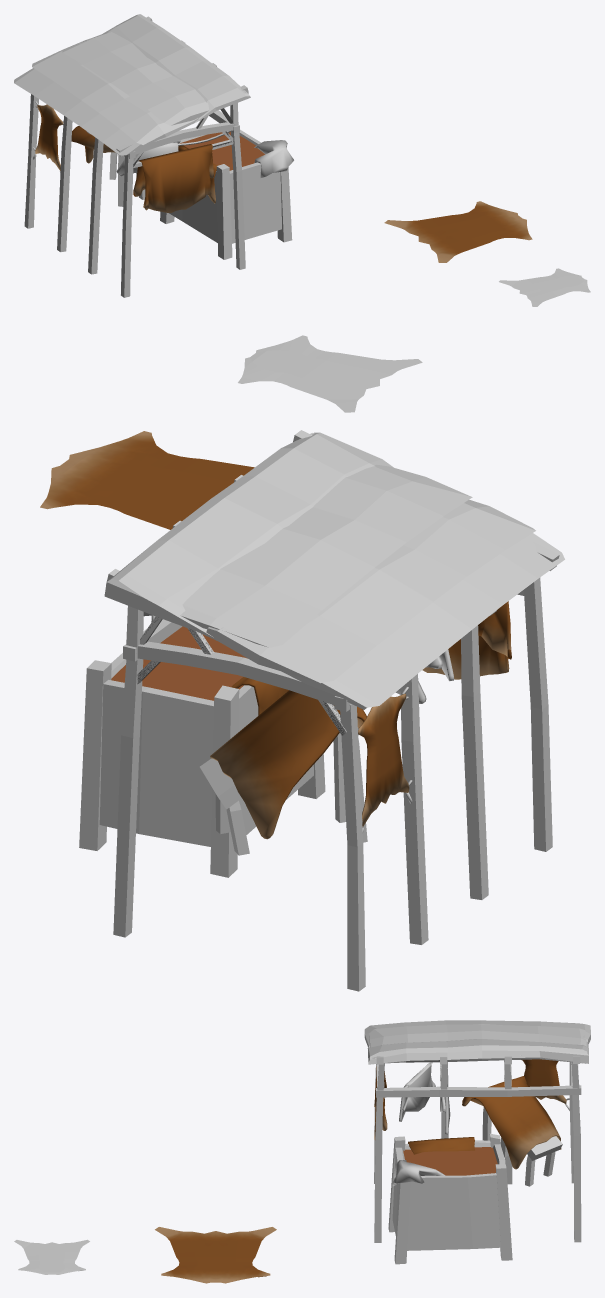
File: Tannery1.fbx
The picture shows the model from 3 angles, top to bottom: view 1: azimuth 30°, elevation 25°; view 2: azimuth 150°, elevation 25°; view 3: azimuth 270°, elevation 25°; orthographic projection. The views are drawn at different scales.
Parts seen in each view (by area): view 1: Tub.001, Step_3, Thatch.002, Thatch.001, Skin.004, Skin.003, Thatch.003, Thatch.004, Skin.005, Post.021, Step_0, Post.036 (+8 smaller); view 2: Tub.001, Thatch.002, Thatch.001, Thatch.003, Step_3, Block.001, Thatch.004, Skin.004, Skin.005, Step_0, Step_1, Post.021 (+7 smaller); view 3: Tub.001, Block.001, Skin.004, Thatch.001, Thatch.002, Post.009, Skin.005, Step_3, Post.033, Post.017, Skin.002, Skin.007 (+3 smaller).
Part boxes in pixels (x1,y1,x2,y2): Tub.001: (160,115,293,259); Step_3: (14,32,245,166); Thatch.002: (62,32,208,125); Thatch.001: (103,14,250,122); Skin.004: (384,201,532,262); Skin.003: (133,144,213,212); Thatch.003: (32,38,198,144); Thatch.004: (14,68,156,155); Skin.005: (499,268,590,306); Post.021: (121,154,133,297); Step_0: (25,94,241,258); Post.036: (57,116,71,251); Tub.001: (79,612,325,877); Thatch.002: (180,464,471,647); Thatch.001: (104,432,393,637); Thatch.003: (206,500,535,683); Step_3: (137,465,532,735); Block.001: (200,690,367,855); Thatch.004: (282,533,564,707); Skin.004: (40,431,254,529); Skin.005: (238,335,422,412); Step_0: (113,659,356,981); Step_1: (401,633,488,943); Post.021: (524,577,552,851); Tub.001: (388,1133,512,1264); Block.001: (462,1076,562,1186); Skin.004: (155,1227,276,1283); Thatch.001: (367,1039,588,1064); Thatch.002: (370,1024,586,1047); Post.009: (376,1085,581,1097); Skin.005: (14,1239,89,1274); Step_3: (364,1020,590,1080); Post.033: (572,1095,581,1242); Post.017: (374,1097,383,1242); Skin.002: (521,1059,566,1103); Skin.007: (399,1062,435,1121).
Size of the model in its own units: 1455 by 538 by 1012.
